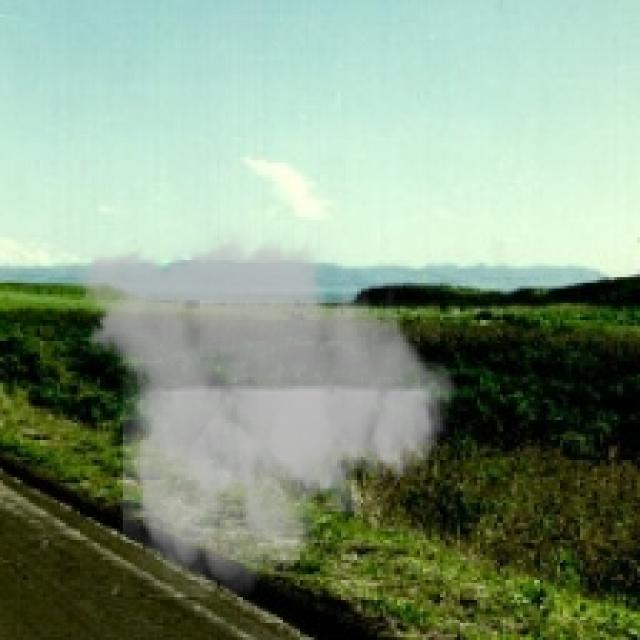smoke: (60, 226, 469, 597)
